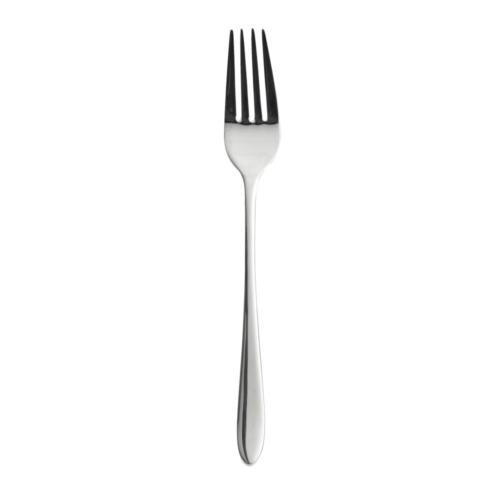Fork: (222, 28, 281, 466)
